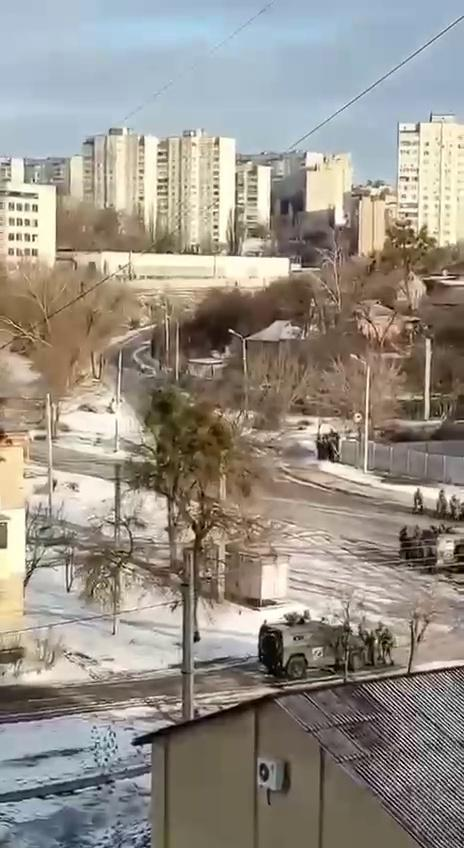armored_car: (258, 613, 367, 678), (415, 528, 464, 572)
